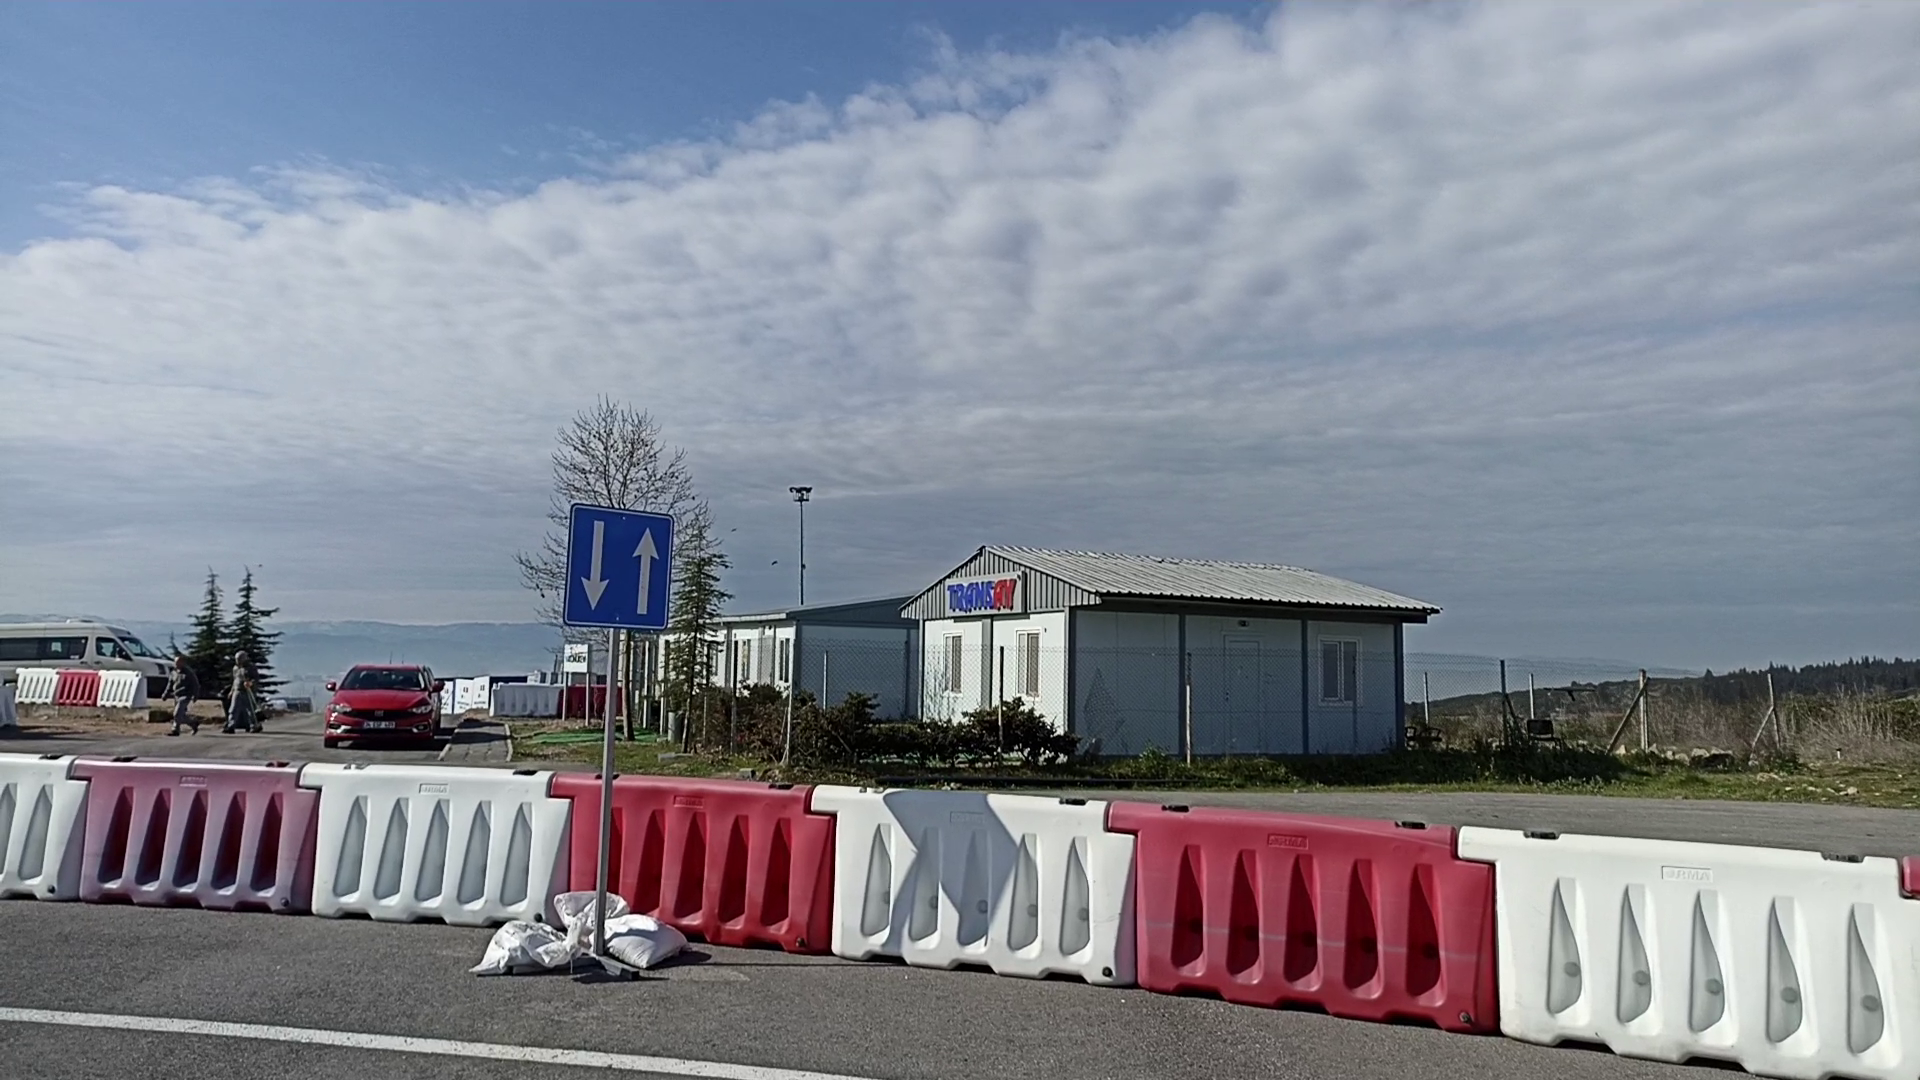oneway: (560, 501, 678, 634)
